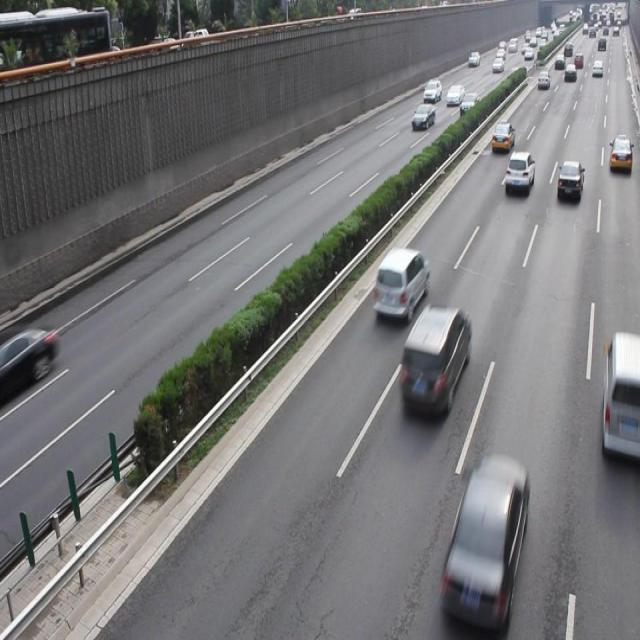car: (439, 453, 529, 630), (398, 304, 470, 414), (374, 244, 429, 320), (503, 150, 534, 196), (556, 158, 583, 202)
truck: (600, 330, 640, 462)
